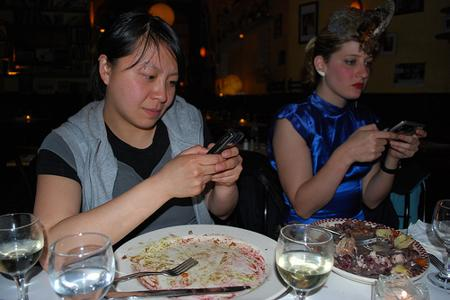person: (29, 12, 244, 276)
